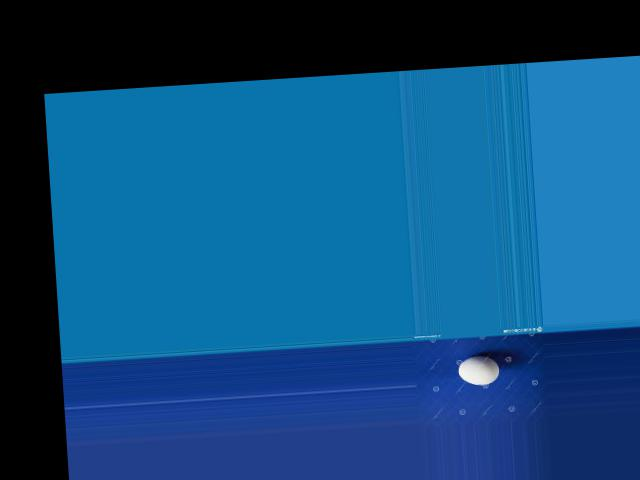egg: (456, 354, 499, 385)
